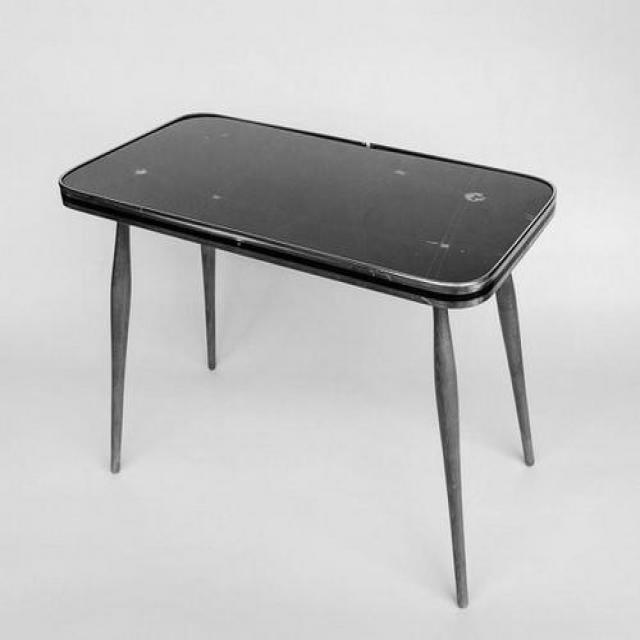table: (56, 110, 556, 607)
